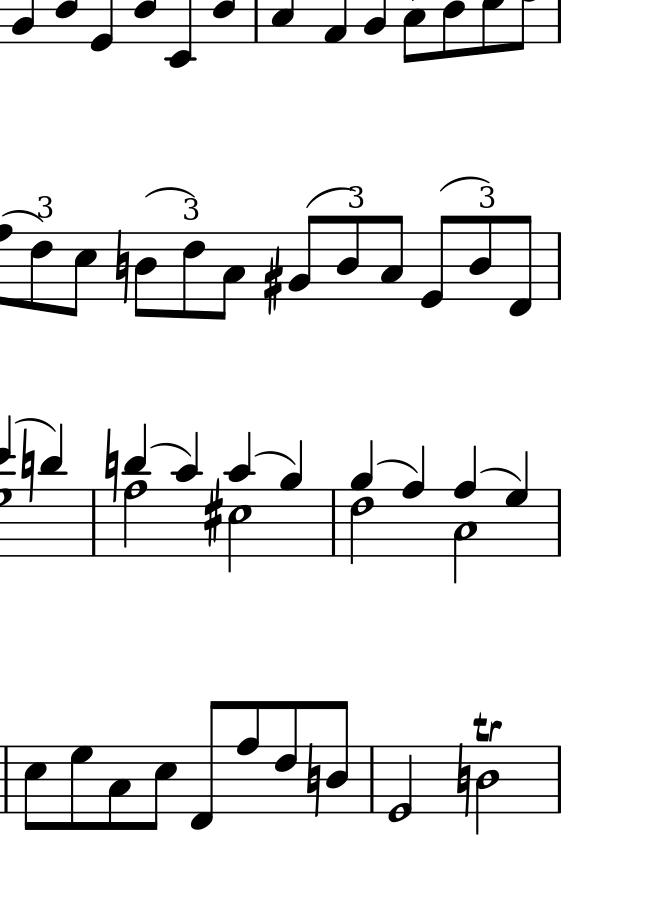2_0: (386, 744, 414, 822)
2_3: (453, 487, 477, 579)
2_4: (473, 743, 501, 835)
2_5: (227, 486, 256, 573)
2_6: (350, 488, 377, 564)
2_8: (123, 478, 150, 563)
3: (475, 184, 496, 212), (182, 197, 202, 223), (348, 184, 365, 213)
4_10: (226, 431, 257, 558), (171, 430, 202, 557)
4_11: (36, 422, 68, 558), (119, 424, 151, 560)
4_7: (505, 449, 530, 556)
4_8: (455, 446, 482, 557), (402, 445, 427, 561)
4_9: (352, 439, 375, 559), (280, 439, 303, 559)
8_-1: (188, 699, 224, 833), (506, 214, 535, 322)
8_0: (419, 214, 456, 312)
8_2: (287, 214, 322, 302)
8_3: (216, 231, 247, 326), (104, 744, 133, 832), (380, 214, 405, 302)
8_4: (326, 698, 350, 818), (336, 214, 362, 302), (469, 214, 495, 301), (134, 231, 157, 321)
8_5: (64, 230, 98, 322), (146, 743, 179, 832), (21, 744, 47, 832)
8_6: (270, 698, 298, 816), (179, 231, 207, 323), (27, 231, 54, 313)
8_7: (67, 743, 94, 833)
8_8: (234, 698, 262, 815)
Natural: (304, 742, 324, 826), (453, 736, 472, 819), (103, 423, 121, 508), (114, 223, 131, 311), (20, 424, 38, 507)
Sharp: (261, 244, 286, 318), (202, 479, 225, 548)
Single_barline: (363, 746, 381, 814), (550, 489, 568, 556), (550, 232, 567, 301), (550, 745, 567, 814), (326, 489, 343, 556), (86, 489, 101, 556), (1, 746, 13, 813)
Slur: (303, 186, 354, 208), (439, 174, 488, 194), (143, 184, 196, 200), (150, 439, 189, 460), (256, 447, 294, 468), (481, 465, 520, 484), (377, 458, 417, 476), (16, 417, 54, 435), (1, 208, 43, 224)
Trill: (470, 710, 503, 743)
